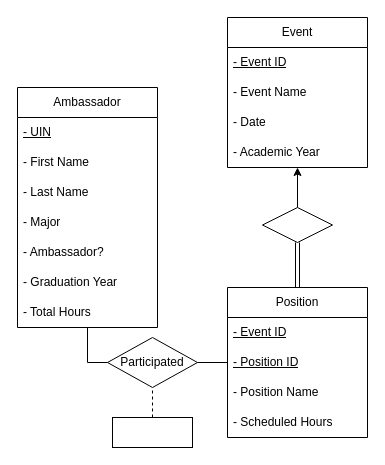
Image size: 385x465. Some labels were removed from this diagram. Here are the shapes that lost their labels. From the top down, the box of each, then its label:
(262, 206, 332, 242): Has
(112, 416, 192, 448): Hour Modifier
